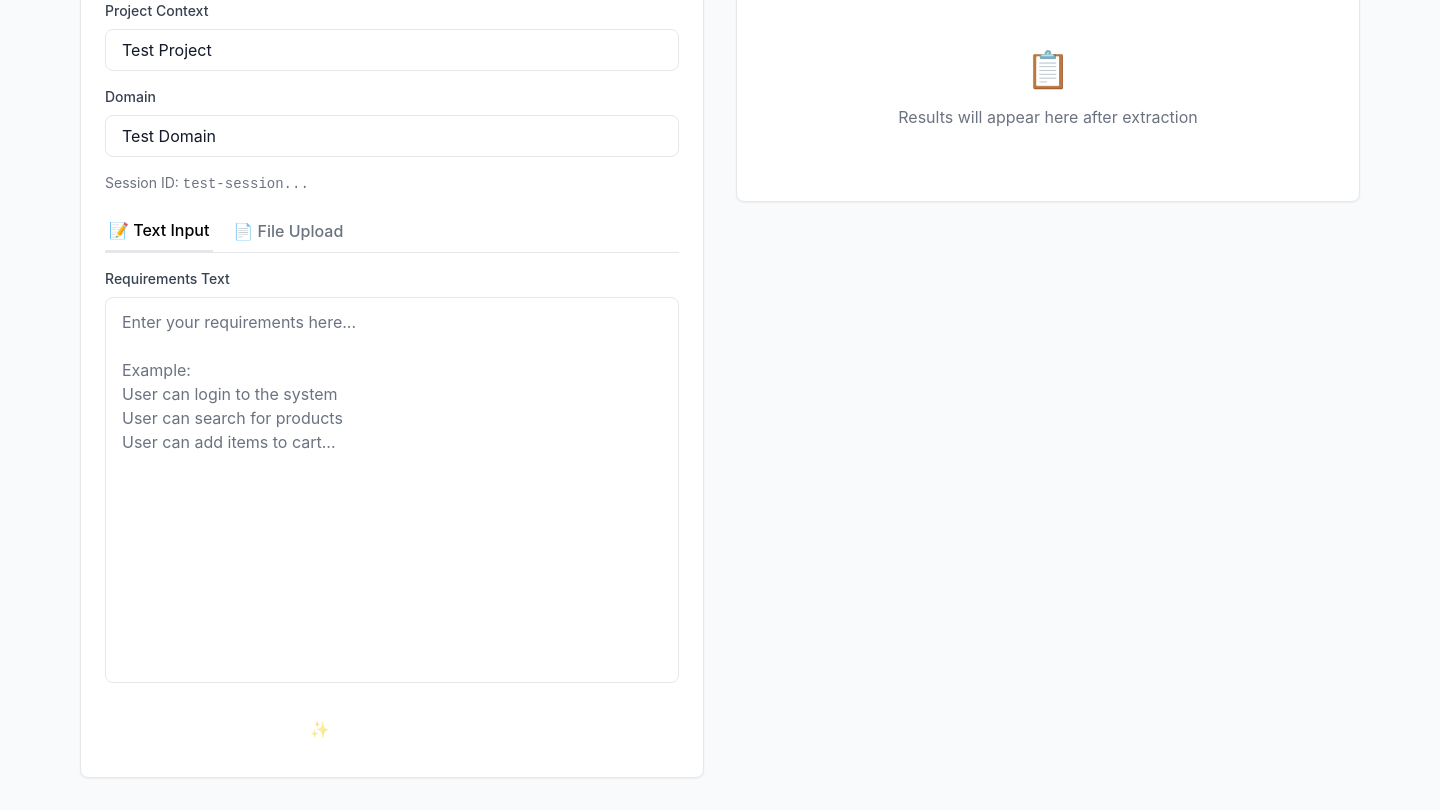
Test: Extraction Component › Results Display › displays all use case details correctly
(page scrolled)
Type "Test" into the text box labelled "Requirements Text".
click(392, 490); type("Test")  # box [105,297,679,683]
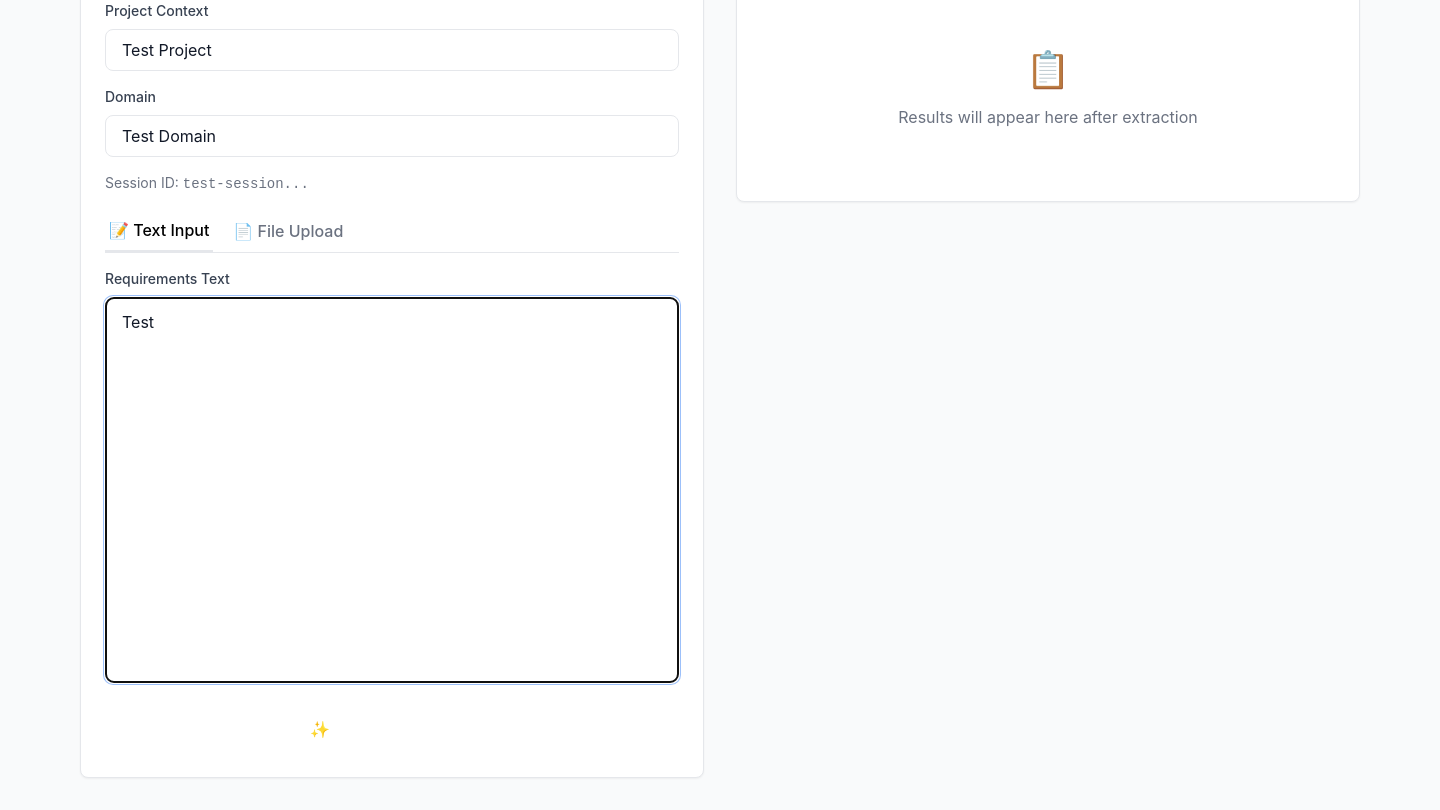
Click the button "✨ Extract Use Cases".
click(392, 729)  # box [105,705,679,753]
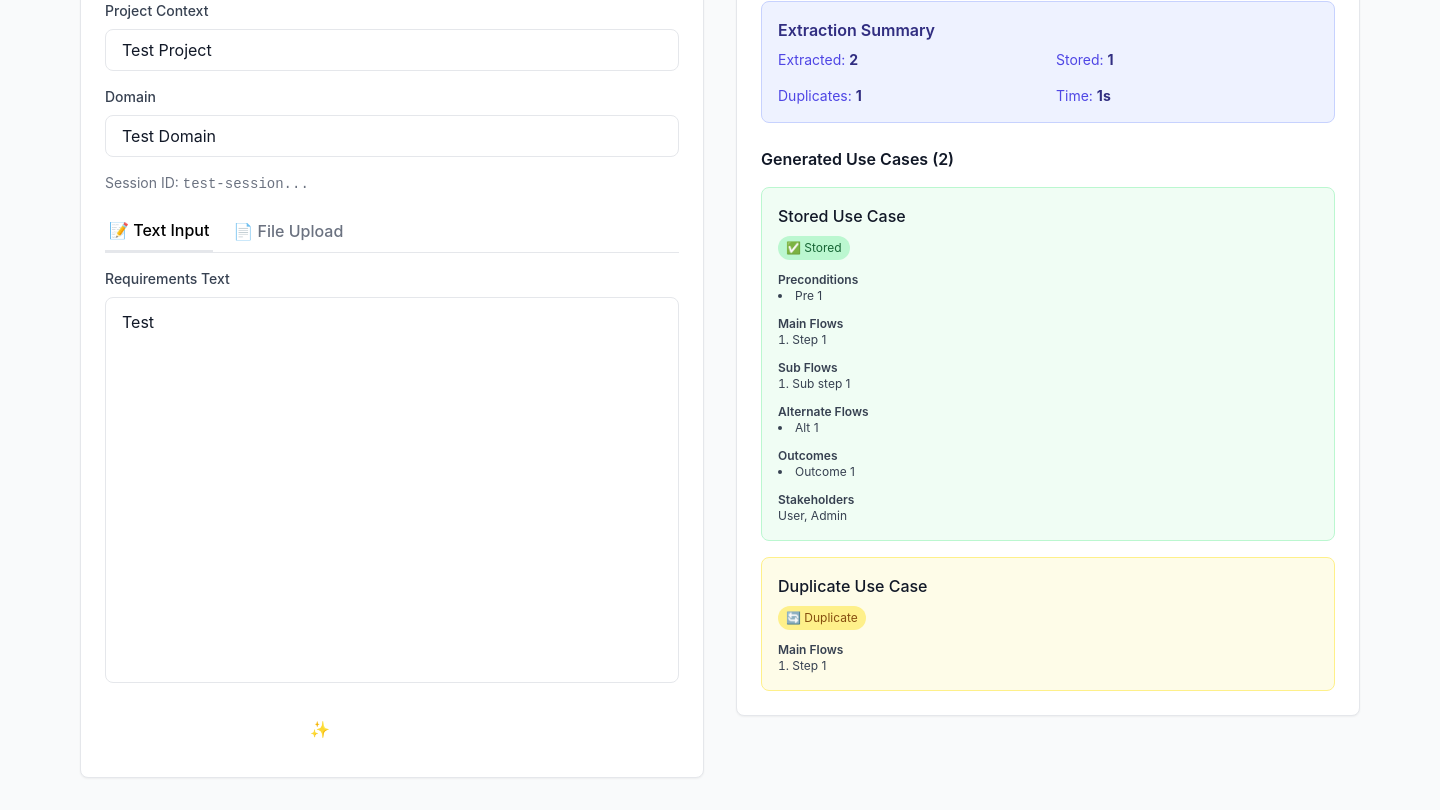
Expected: the text "Stored Use Case" is shown, [778,206,906,226]
Expected: the text "Duplicate Use Case" is shown, [778,576,928,596]
Expected: the text "✅ Stored" is shown, [778,236,850,260]
